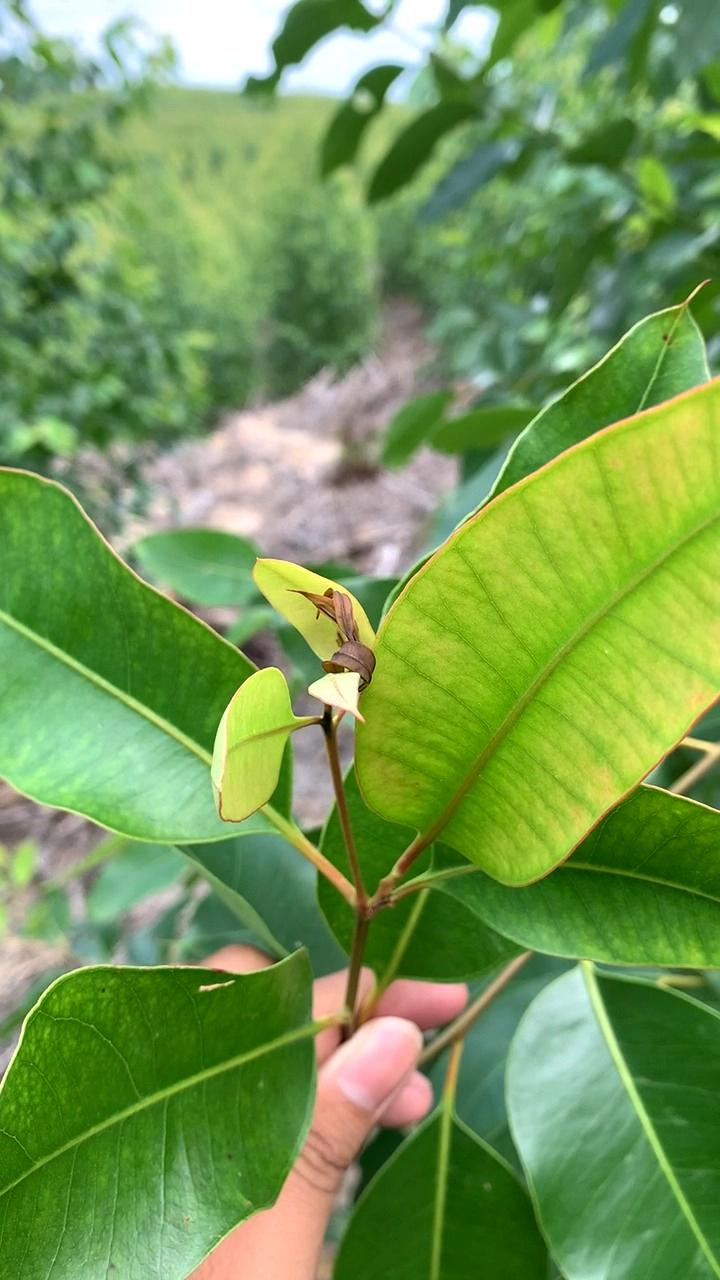Helopeltis-Withered Sprout: (276, 566, 409, 715)
